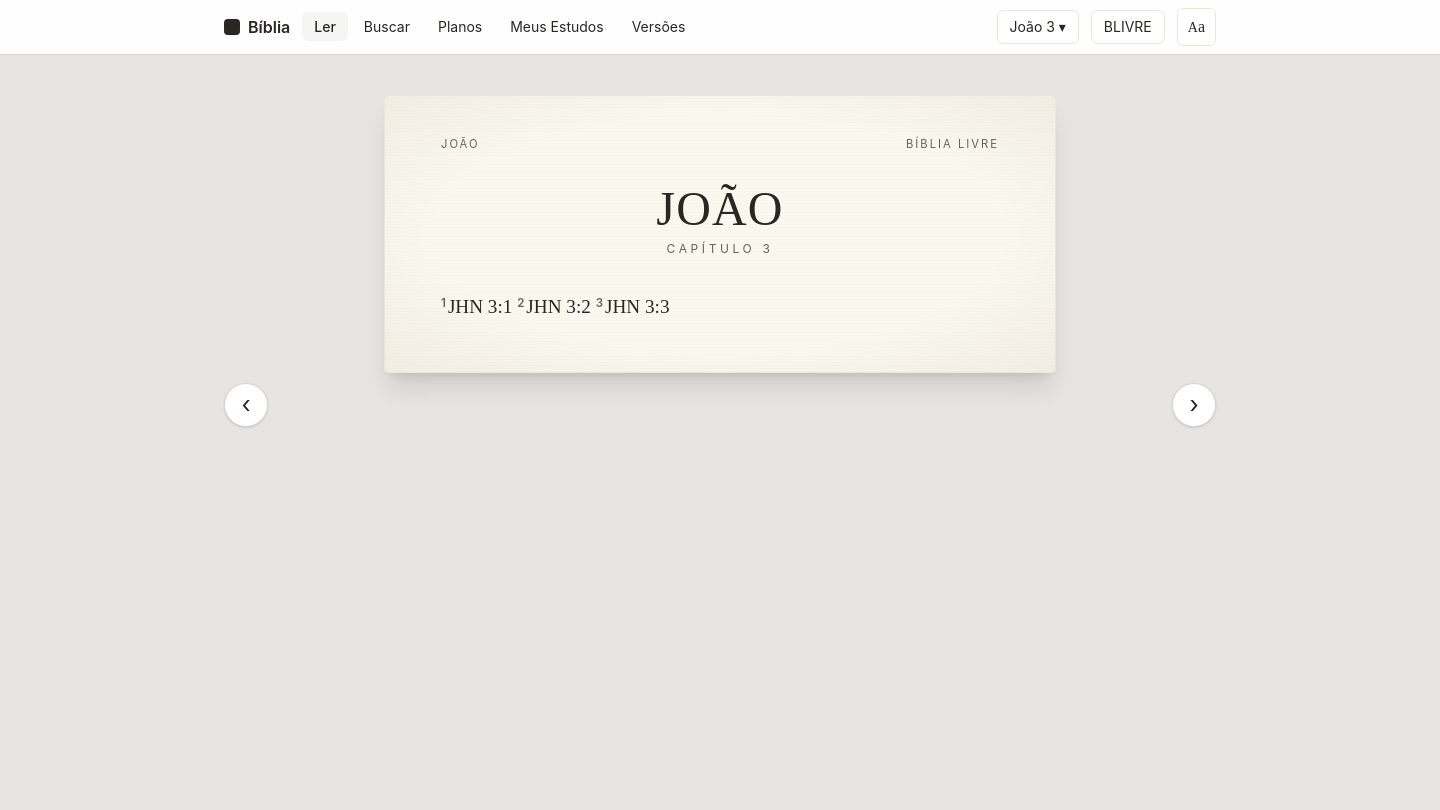
Test: Anotações (UC06) › anota no rodapé: marcador no texto, nota no pé da página, foco de volta
Click the button named "Versículo 2" at (521, 304), box left=515, top=296, right=526, bottom=312
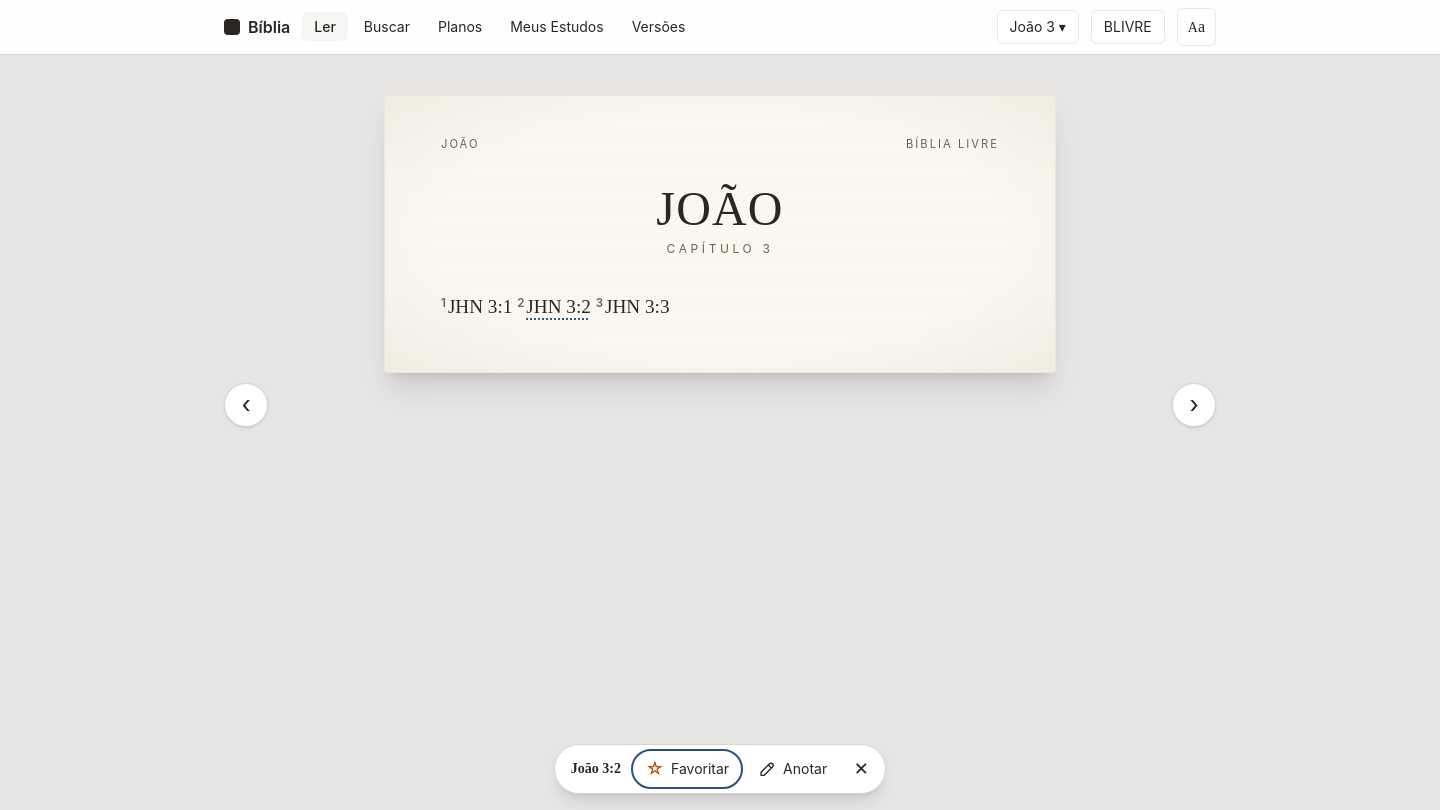
Click the button "Anotar" at (792, 769), box left=745, top=751, right=839, bottom=787
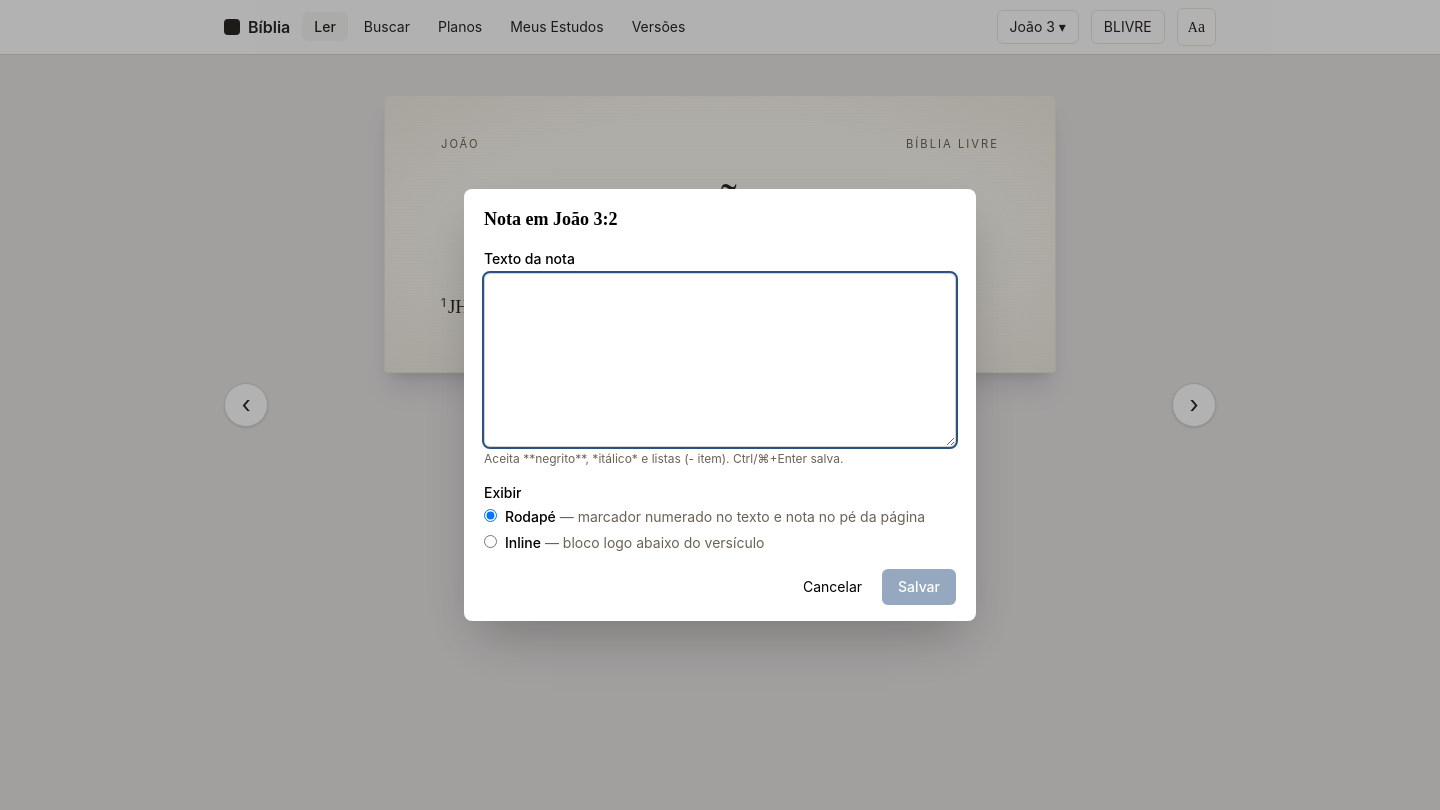
Result: the radio button labelled "Rodapé — marcador numerado no texto e nota no pé da página" is checked at left=484, top=509, right=497, bottom=522
Result: the button "Salvar" is disabled at left=882, top=569, right=956, bottom=605
Type "**Importante** aqui" into the text box labelled "Texto da nota" at (720, 360), box left=484, top=273, right=956, bottom=447
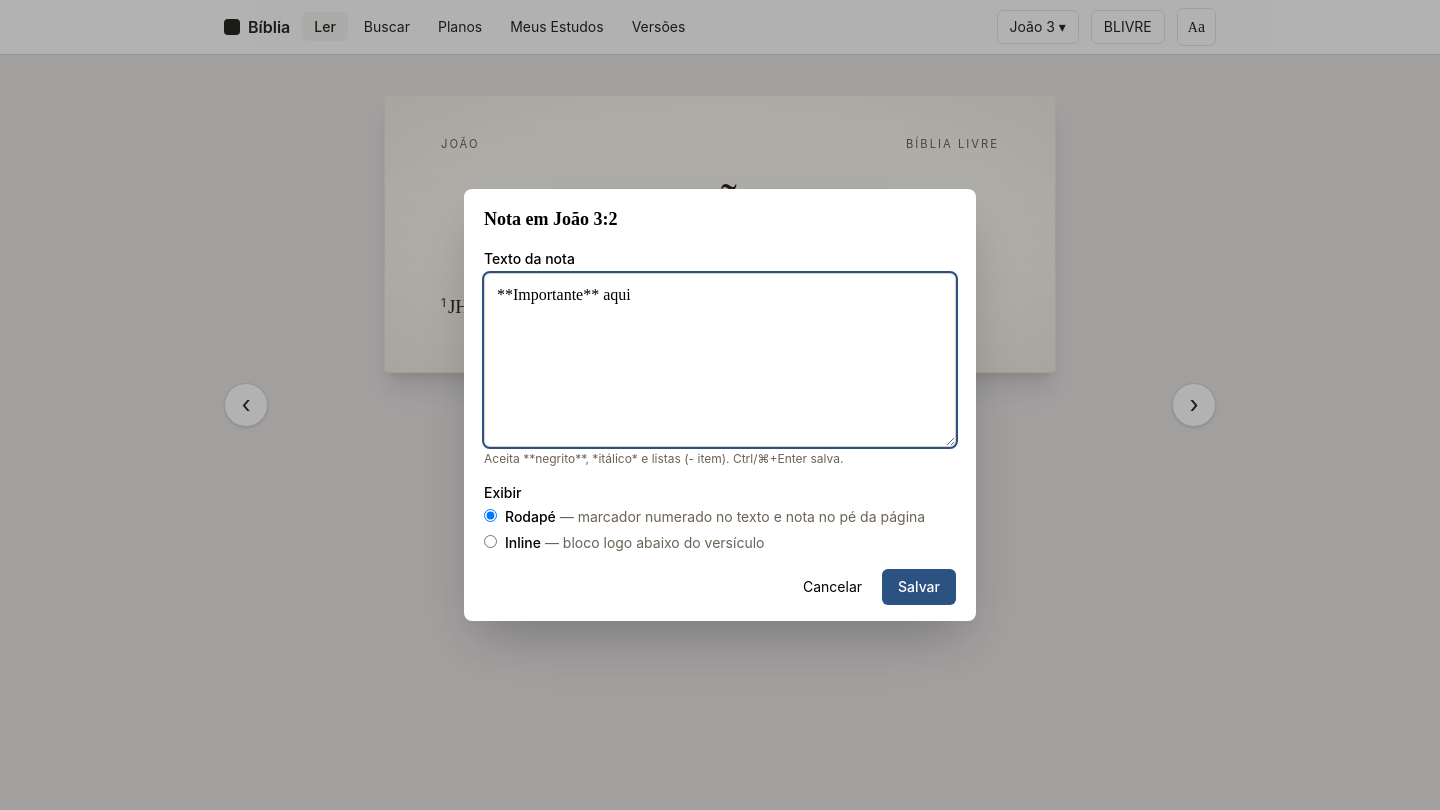
Click the button "Salvar" at (919, 587), box left=882, top=569, right=956, bottom=605
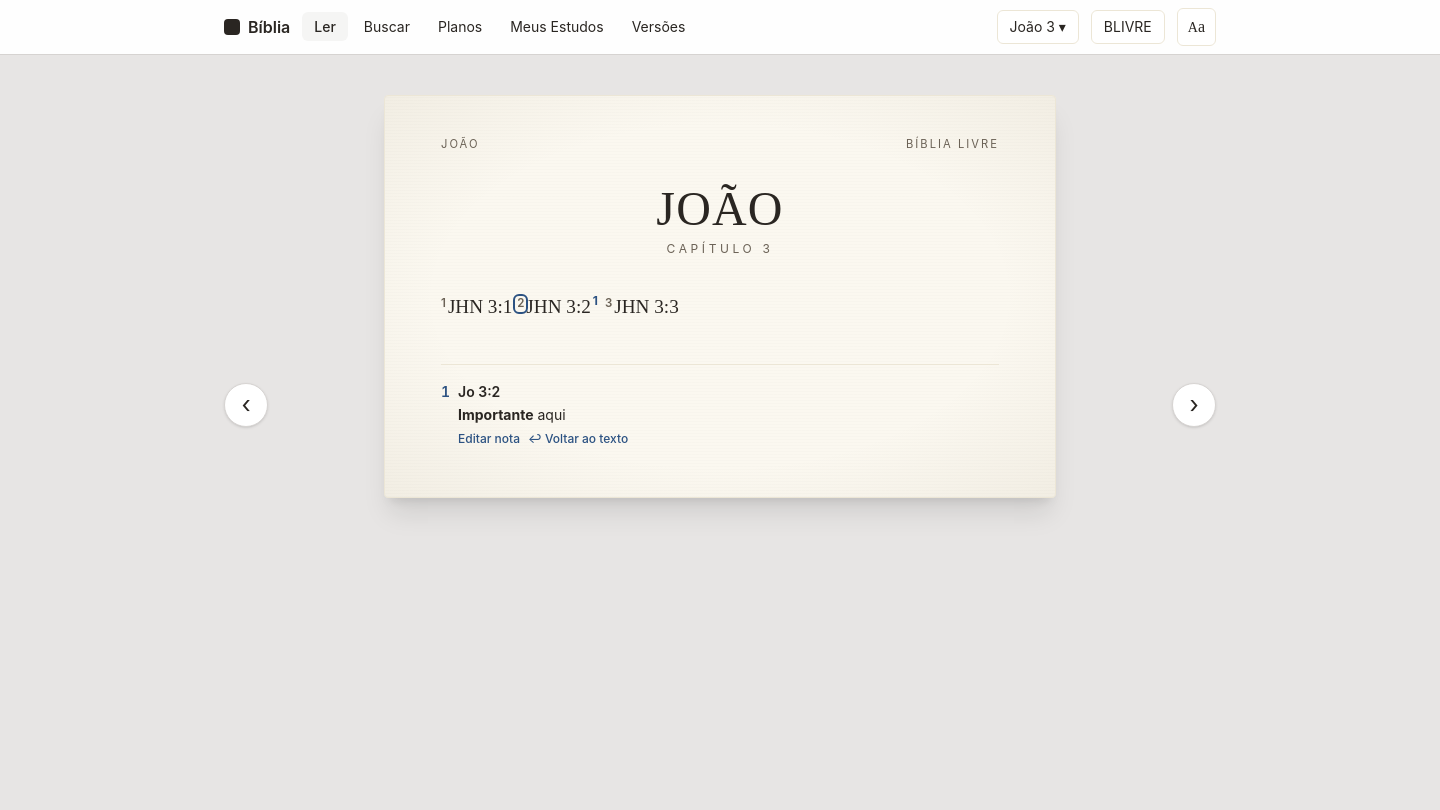
Result: the dialog is gone
Result: the button named "Nota 1" is empty at left=592, top=295, right=599, bottom=307
Result: the text "Jo 3:2" is shown at left=458, top=383, right=500, bottom=400
